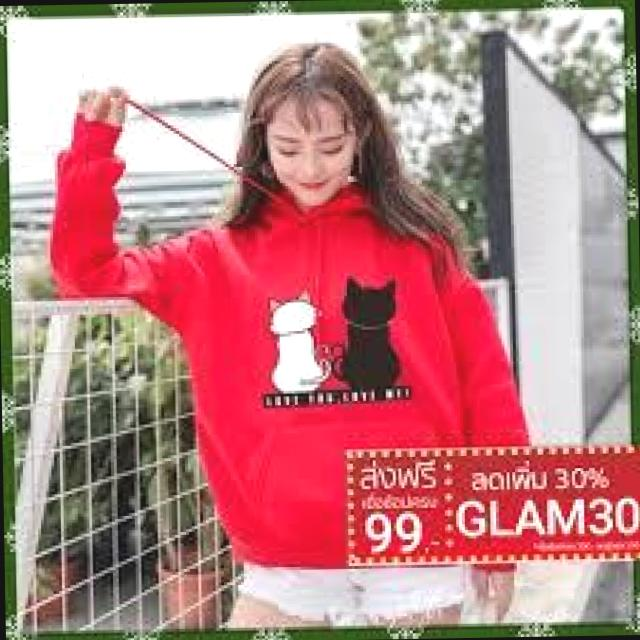sweater: (62, 180, 523, 563)
